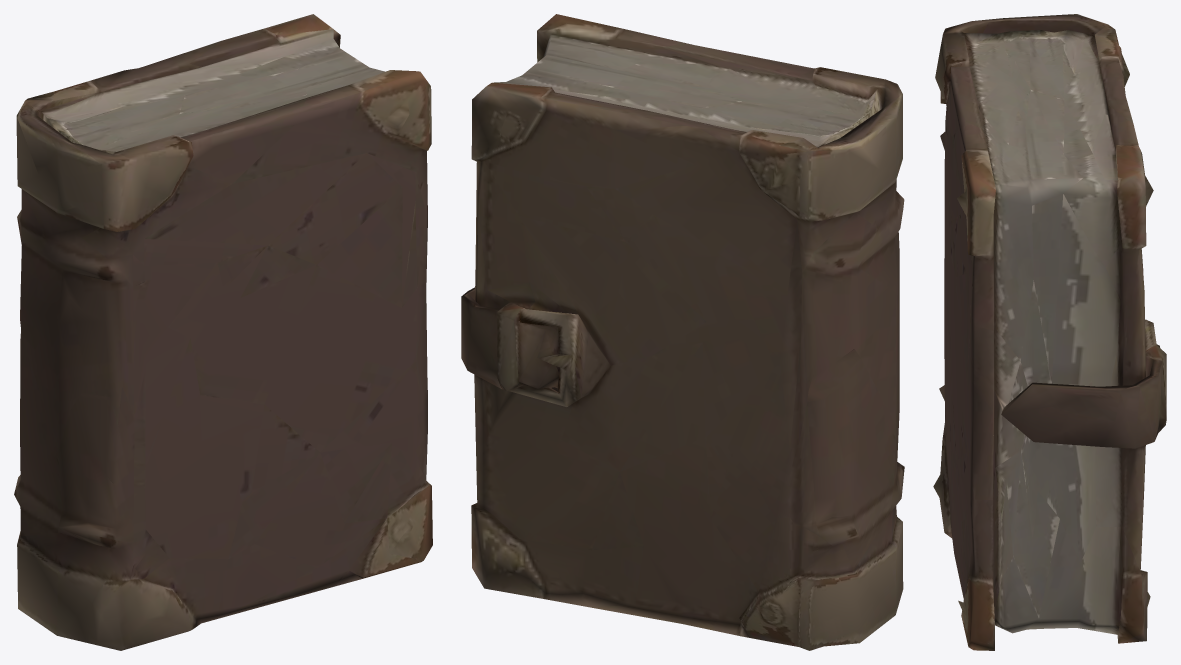
Rendered from tome_wynd_starter.glb.
The picture shows the model from 3 angles, left to right: view 1: azimuth 30°, elevation 25°; view 2: azimuth 150°, elevation 25°; view 3: azimuth 270°, elevation 25°; orthographic projection. The views are drawn at different scales.
Visible parts, largest first — view 1: tripo_node_e2315cda-409c-450a-ba6d-35b8a0cbbc79; view 2: tripo_node_e2315cda-409c-450a-ba6d-35b8a0cbbc79; view 3: tripo_node_e2315cda-409c-450a-ba6d-35b8a0cbbc79.
Boxes of the visible parts, x1=… form: tripo_node_e2315cda-409c-450a-ba6d-35b8a0cbbc79: x1=14, y1=14, x2=432, y2=650; tripo_node_e2315cda-409c-450a-ba6d-35b8a0cbbc79: x1=461, y1=14, x2=904, y2=650; tripo_node_e2315cda-409c-450a-ba6d-35b8a0cbbc79: x1=933, y1=14, x2=1166, y2=650.
Bounding box in the file's own units: 0.7693 × 1 × 0.4455.
Materials: 1 (1 with a texture image).
